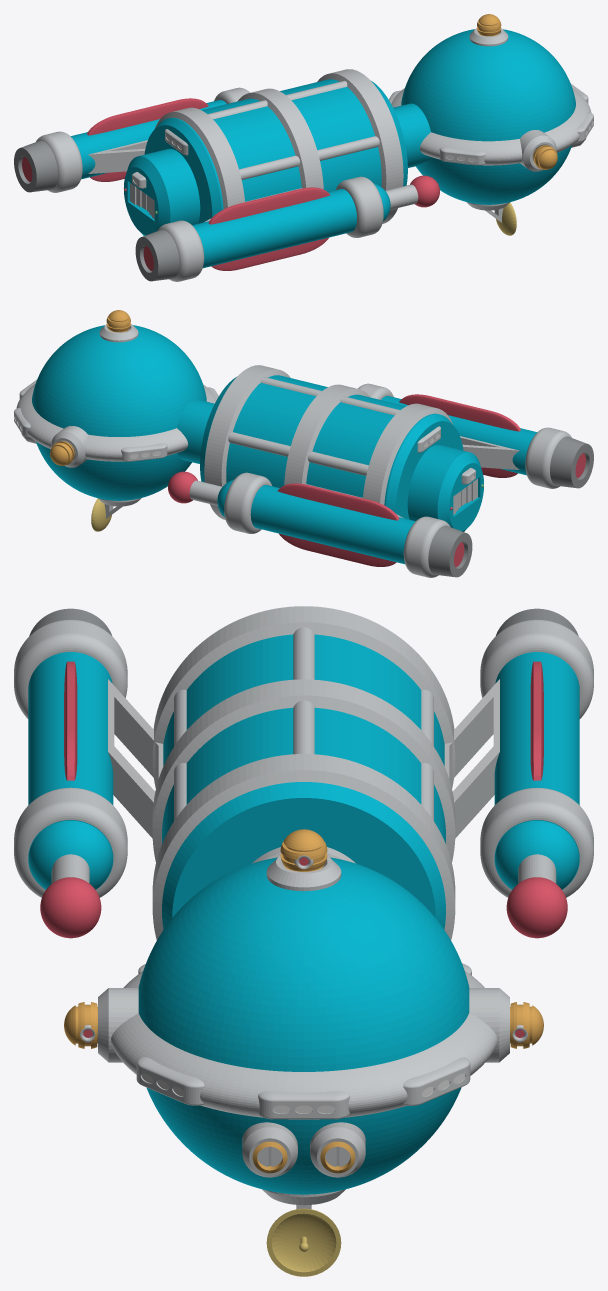
File: Earth Light Cruiser v2.1 Union Group.glb
3 views of the same model, one above another, from view 1: azimuth 30°, elevation 25°; view 2: azimuth 150°, elevation 25°; view 3: azimuth 270°, elevation 25° (orthographic). The views are drawn at different scales.
Parts seen in each view (by area): view 1: Mesh_Mesh_head_geo.001_lambert2SG.001; view 2: Mesh_Mesh_head_geo.001_lambert2SG.001; view 3: Mesh_Mesh_head_geo.001_lambert2SG.001.
Part boxes in pixels (x1=…): Mesh_Mesh_head_geo.001_lambert2SG.001: x1=14, y1=14, x2=593, y2=281; Mesh_Mesh_head_geo.001_lambert2SG.001: x1=14, y1=310, x2=593, y2=577; Mesh_Mesh_head_geo.001_lambert2SG.001: x1=14, y1=606, x2=593, y2=1276.
Size of the model in its own units: 161 by 69.7 by 85.5.
